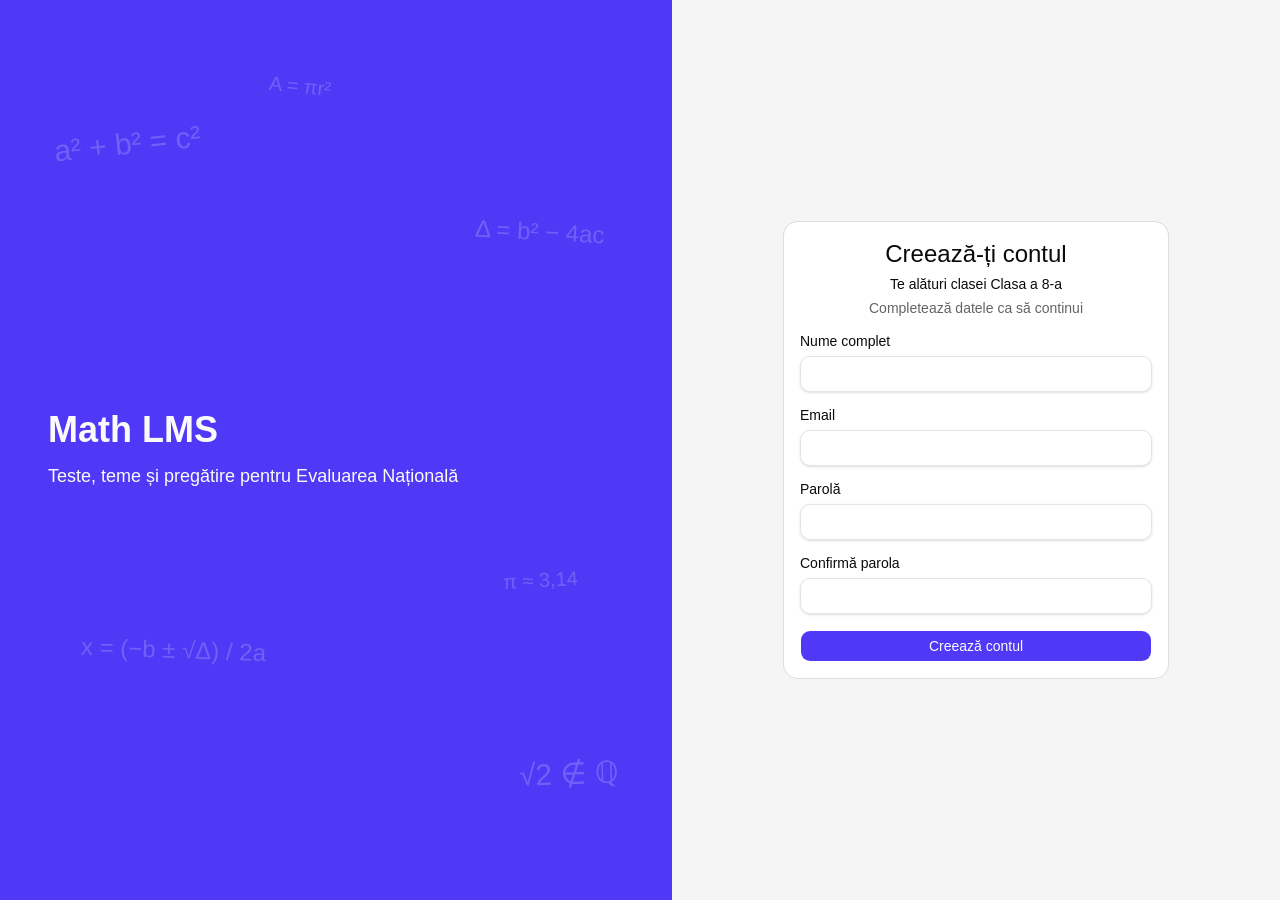
Test: RegisterPage › names the class of a class link and promises no waiting
This screenshot has width=1280, height=900.
Expected: the text with test id "invite-headline" reads "Te alături clasei Clasa a 8-a", [890,276,1062,292]
In the field labelled "Nume complet": (976,374) [800,356,1152,392], type "Ana Pop"
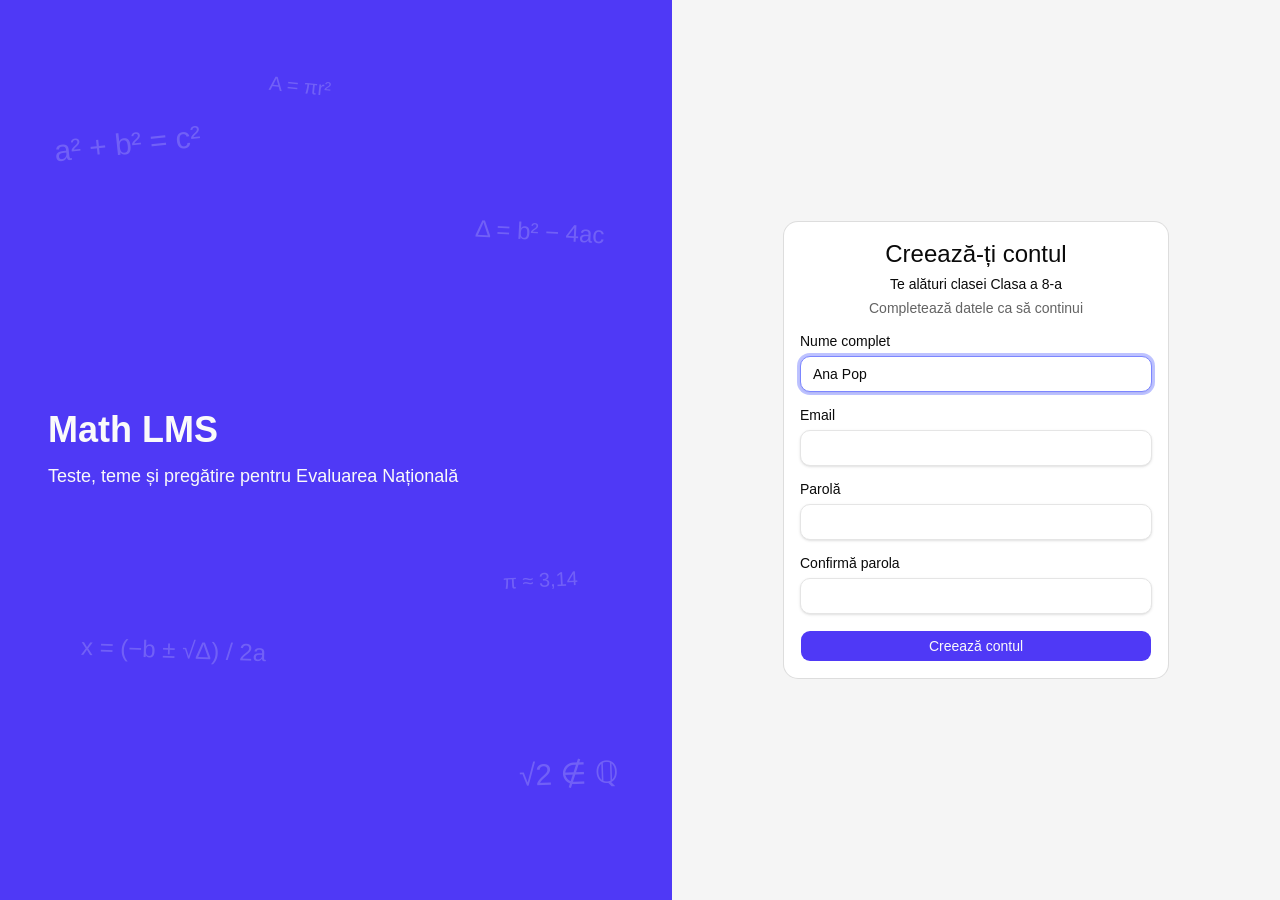
In the field labelled "Email": (976,448) [800,430,1152,466], type "ana@scoala.ro"
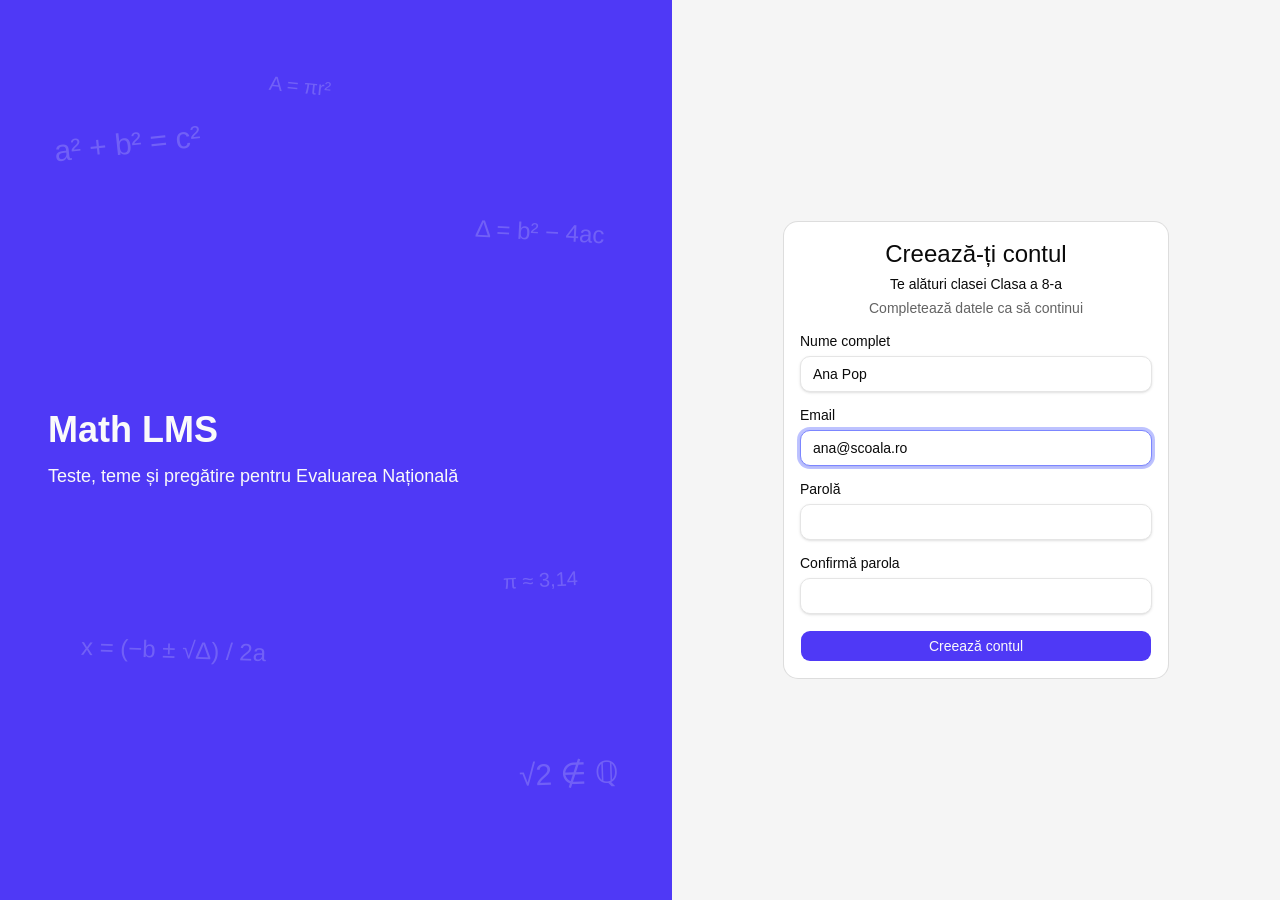
In the password field labelled "Parolă": (976,522) [800,504,1152,540], type "parola123"
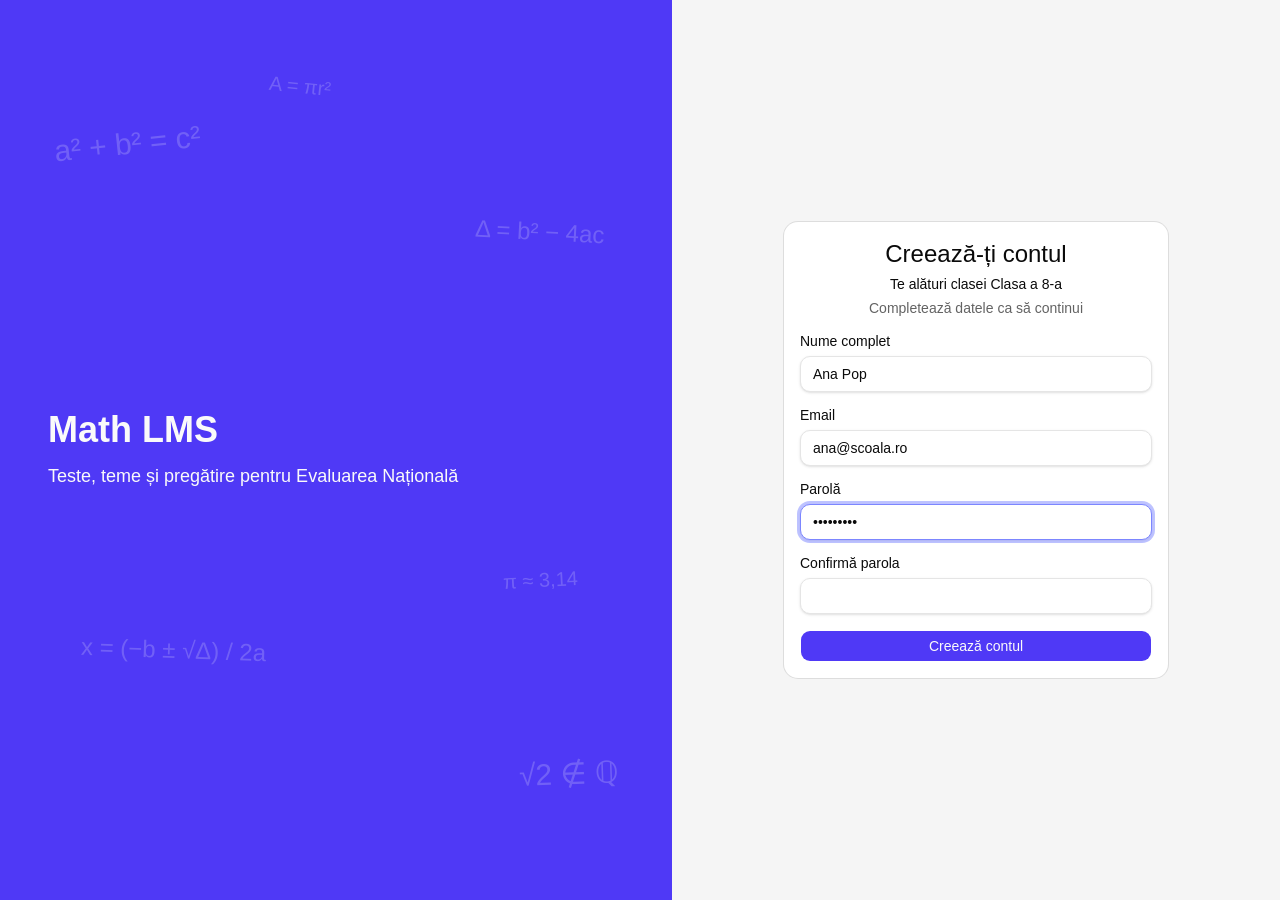
In the password field labelled "Confirmă parola": (976,596) [800,578,1152,614], type "parola123"
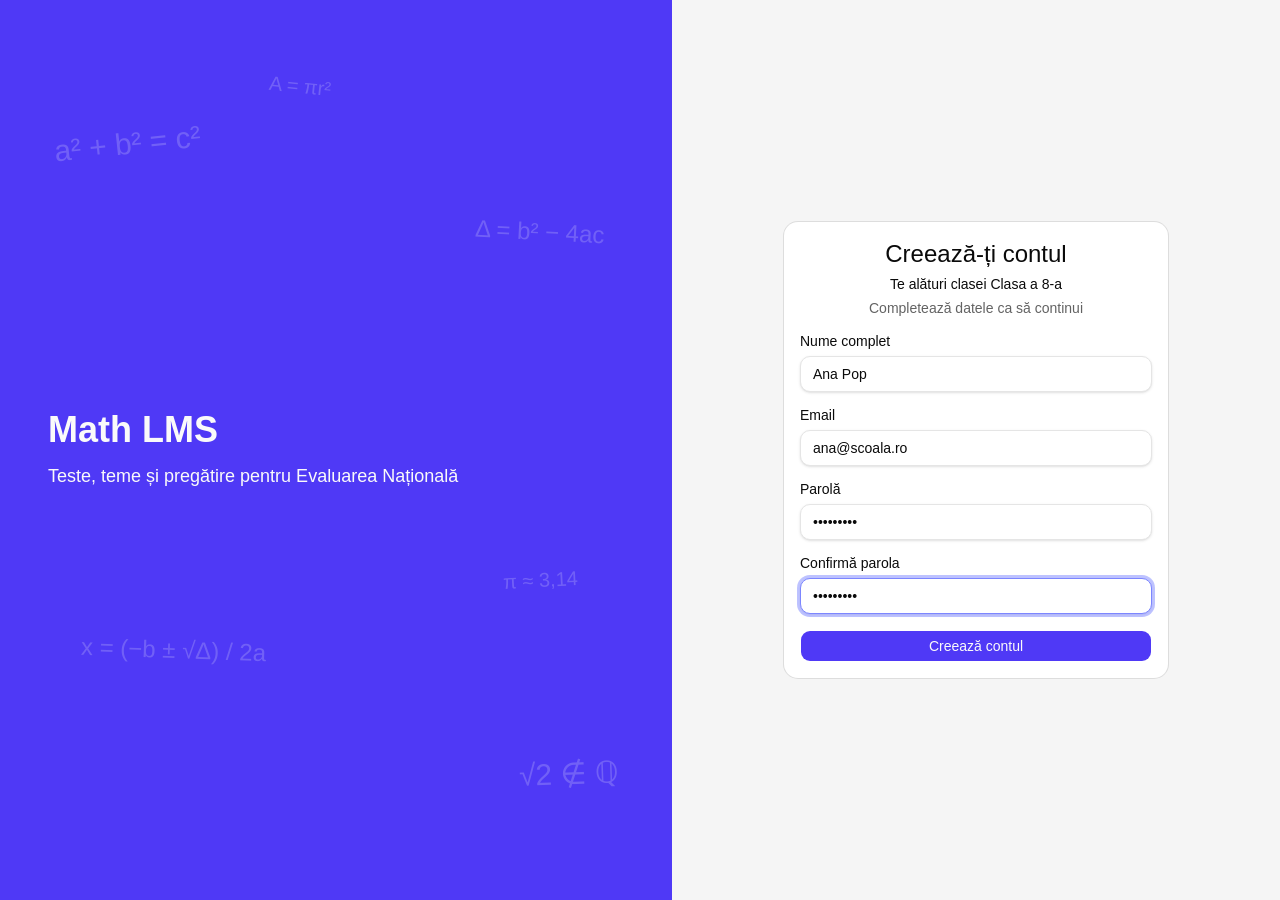
Click the button "Creează contul": (976,646) [800,630,1152,662]
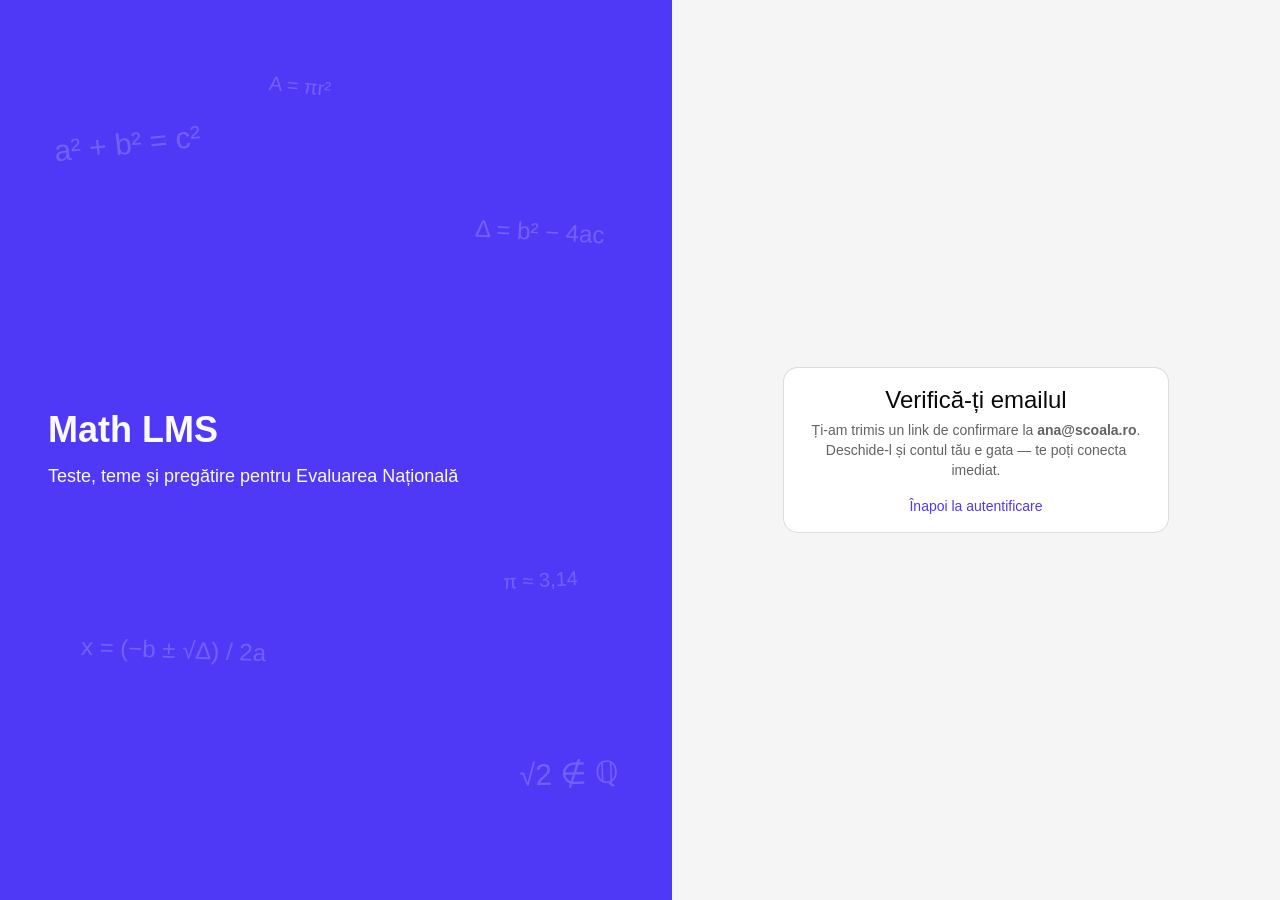
Expected: the text "contul tău e gata" is shown, [826,442,1126,478]
